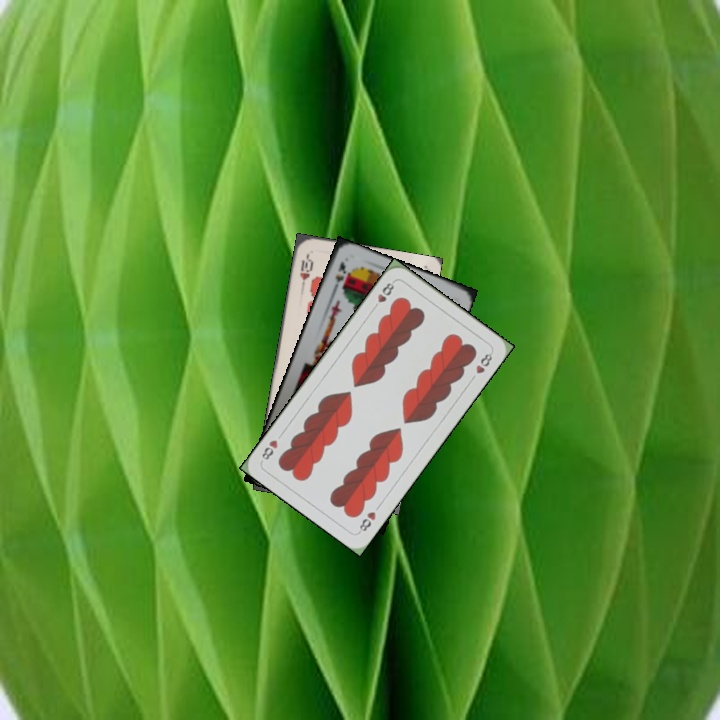H10: (296, 250, 315, 290)
H8: (369, 277, 397, 312), (355, 507, 379, 536)
SK: (328, 257, 349, 295)
